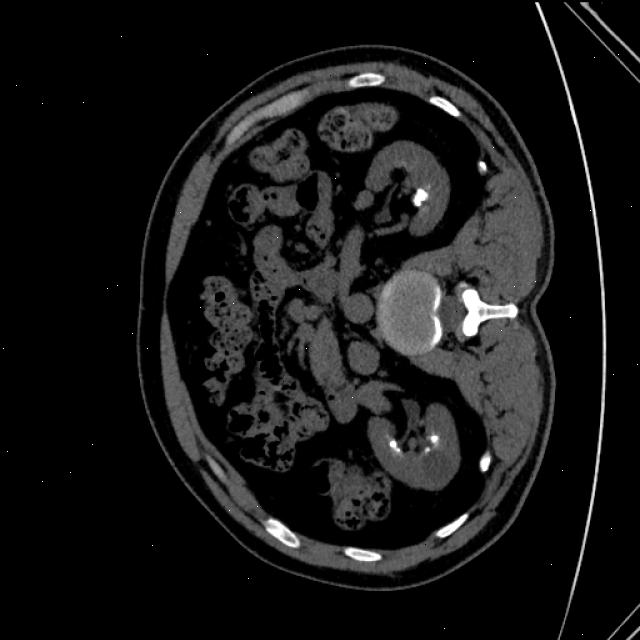kidneystone: (412, 188, 428, 206), (389, 439, 401, 451), (430, 435, 438, 446)
